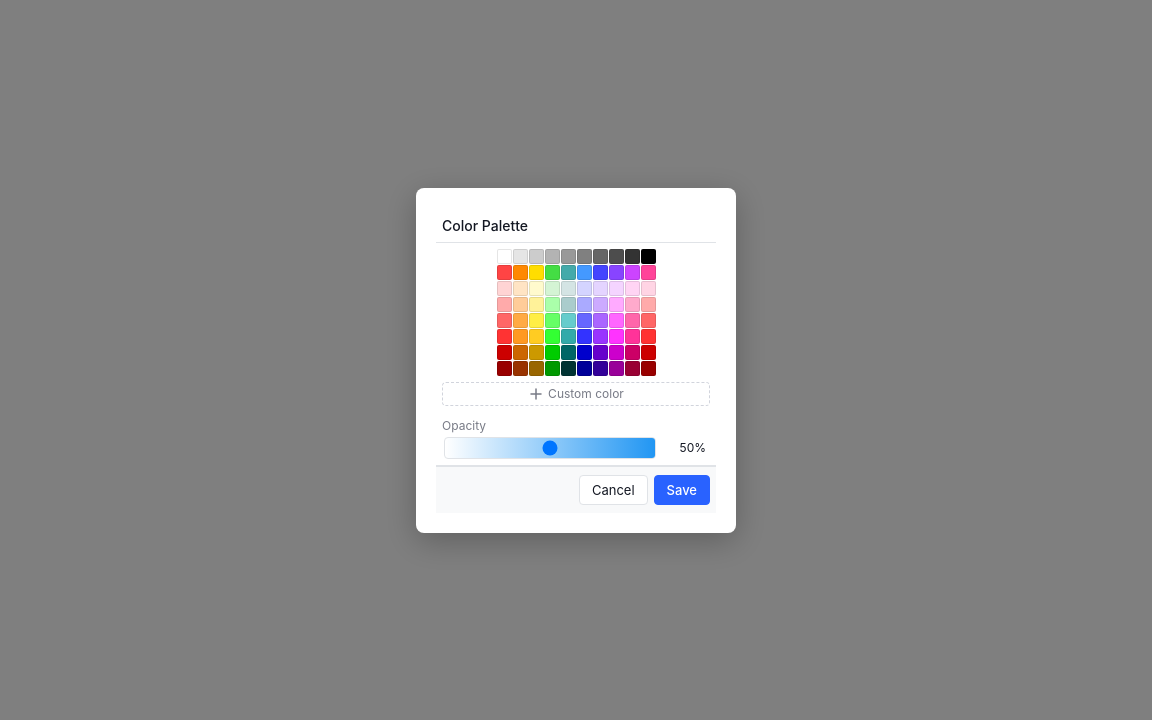
Test: ColorPickerDialog › should update preview color style dynamically
# Select a different color
Click the button titled "#44DD44" at {"x": 552, "y": 272}, box [544, 264, 560, 280]
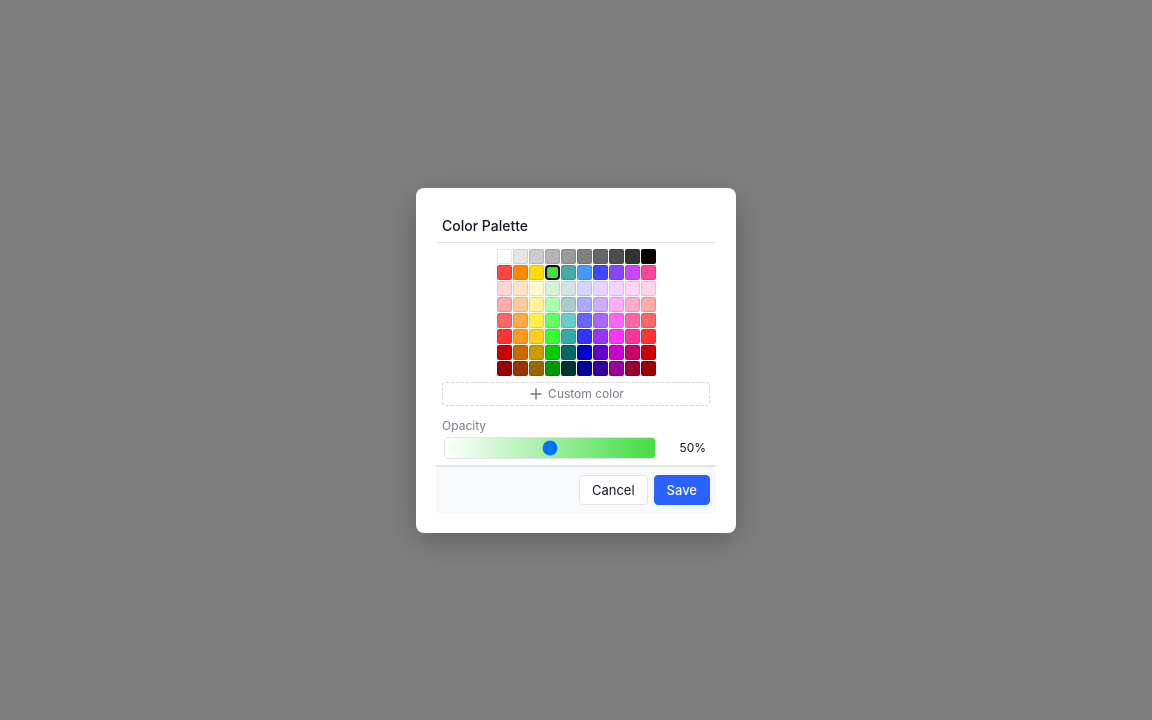
# Change opacity
Set the slider to "25" at {"x": 502, "y": 448}, box [445, 438, 655, 458]
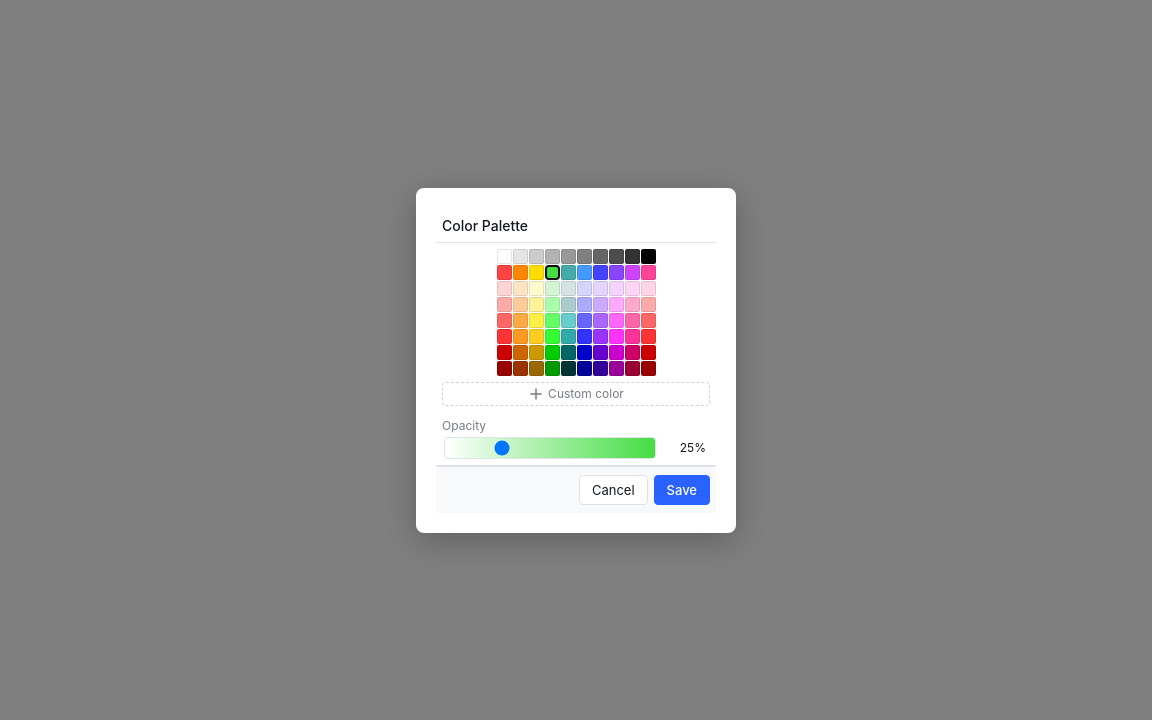
Now the field showing "25%" is shown, box [664, 439, 708, 456]
